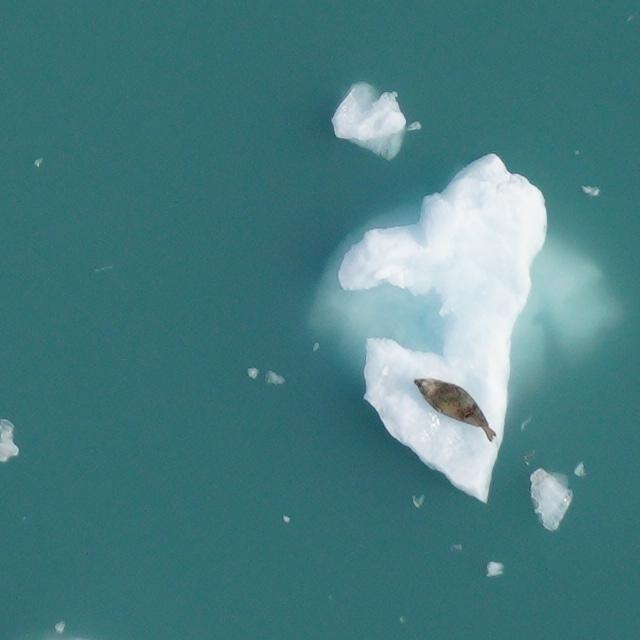seal: (404, 361, 509, 445)
